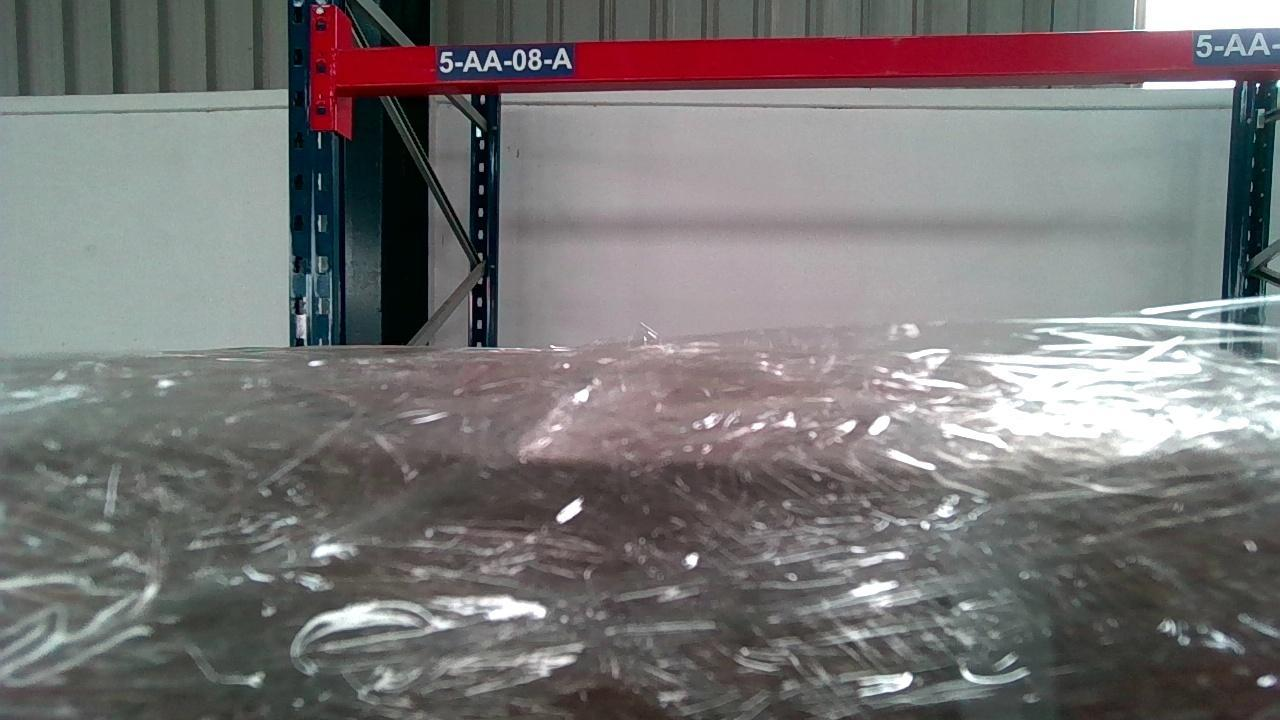h_rack: (341, 27, 1275, 90)
